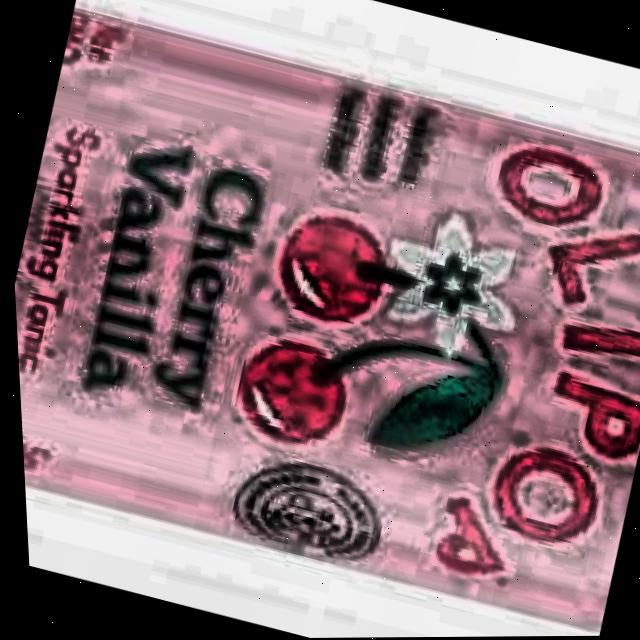metal: (11, 0, 640, 634)
